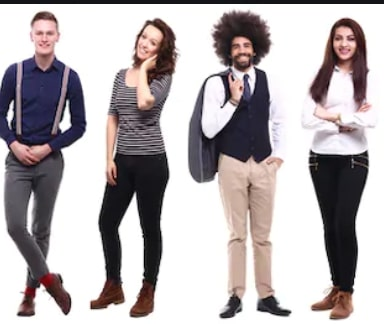Bad: (91, 10, 294, 318), (1, 10, 179, 319), (202, 11, 380, 319)
